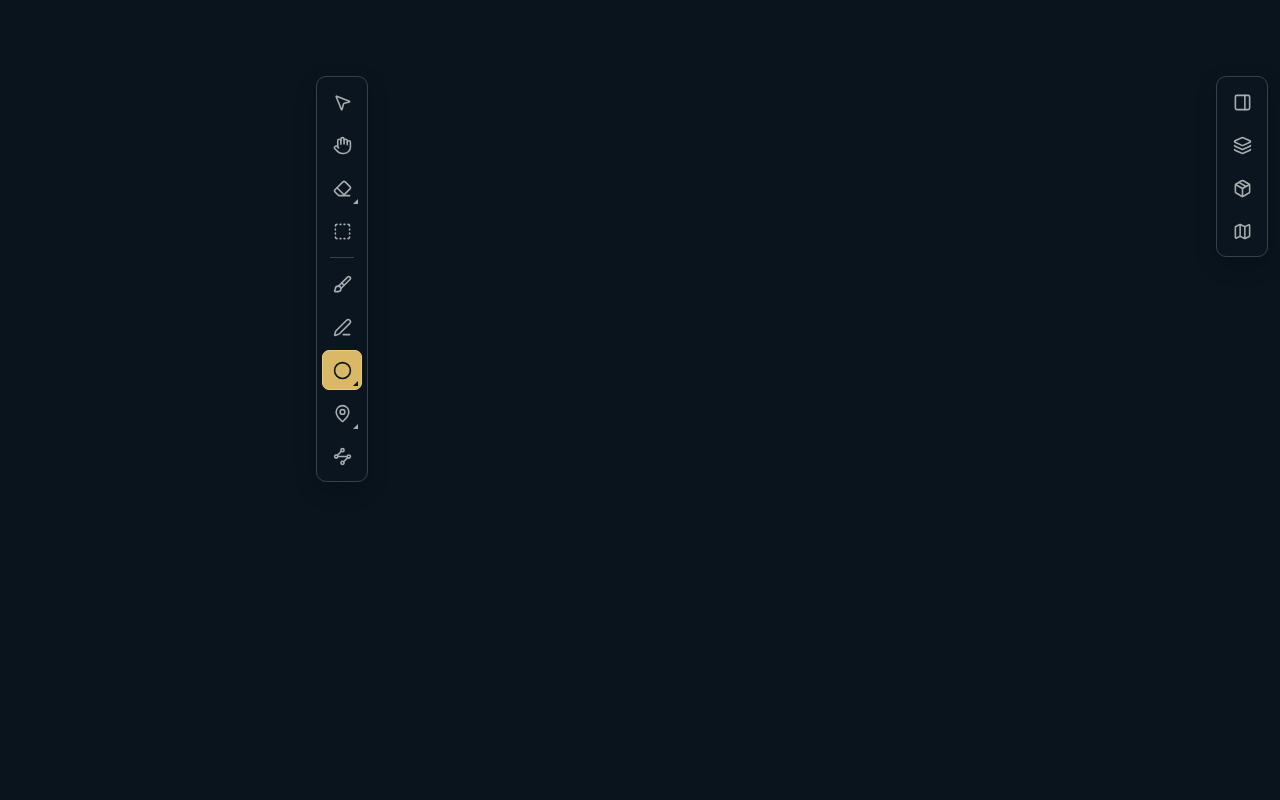
Test: CanvasToolRail › 物体入口动态显示预设、禁用原因和当前形状
Click the button named "物体 · 气象圆阵".
click(342, 370)  # box [322,350,362,390]
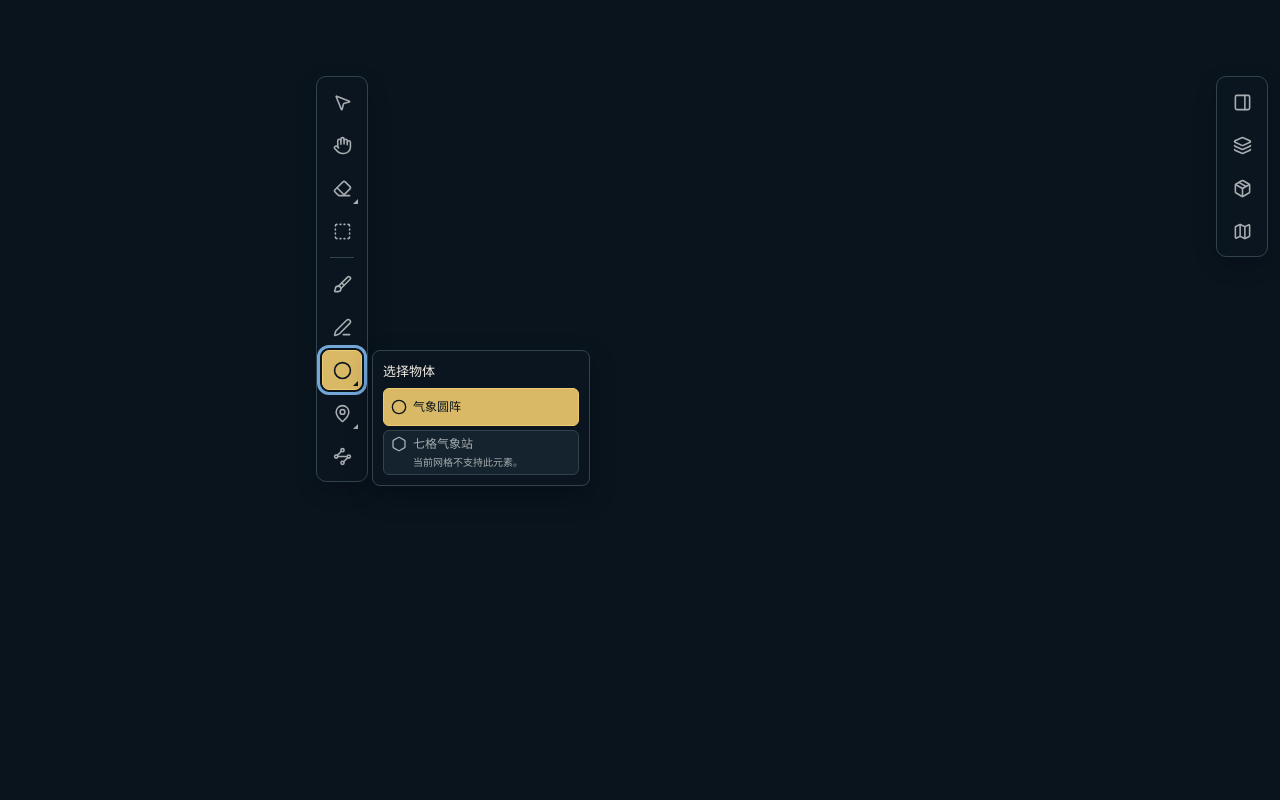
Check: the radio button named "七格气象站：当前网格不支持此元素" is disabled, box [383,430,579,474]
Click the radio button labelled "气象圆阵".
click(481, 407)  # box [383,388,579,426]
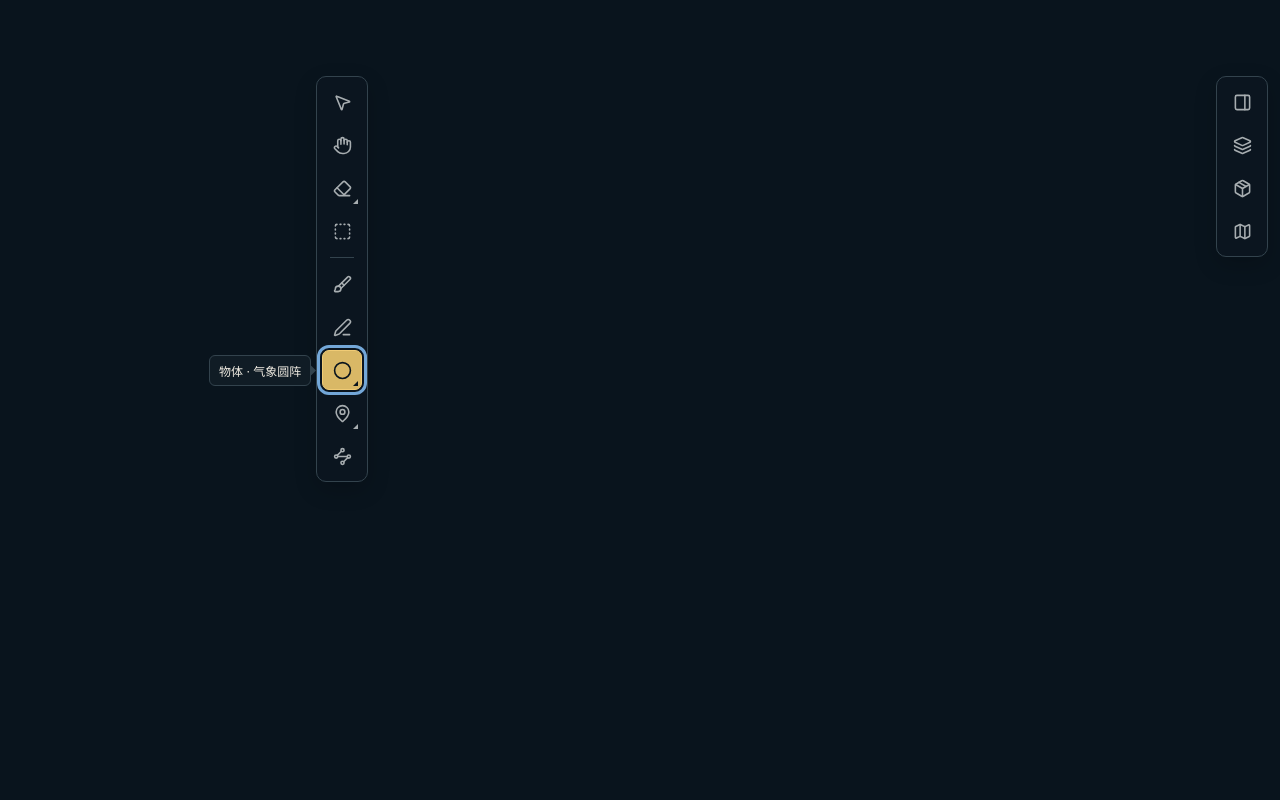
Check: the text "选择物体" is gone
